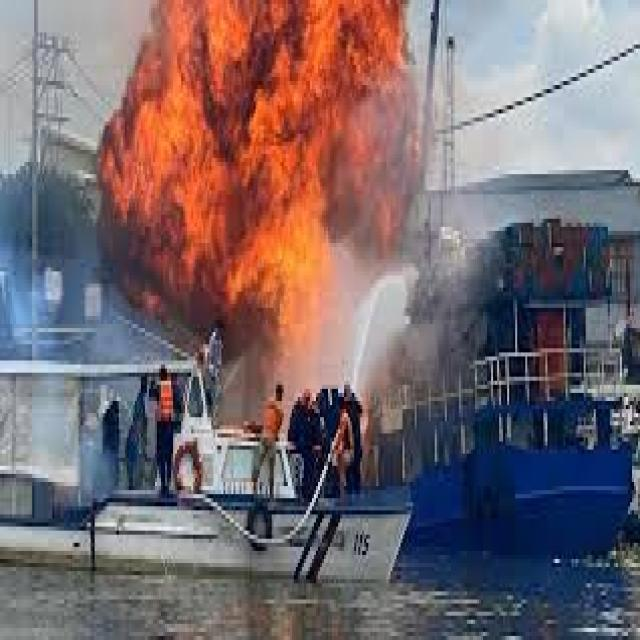Fire: (128, 2, 414, 313)
